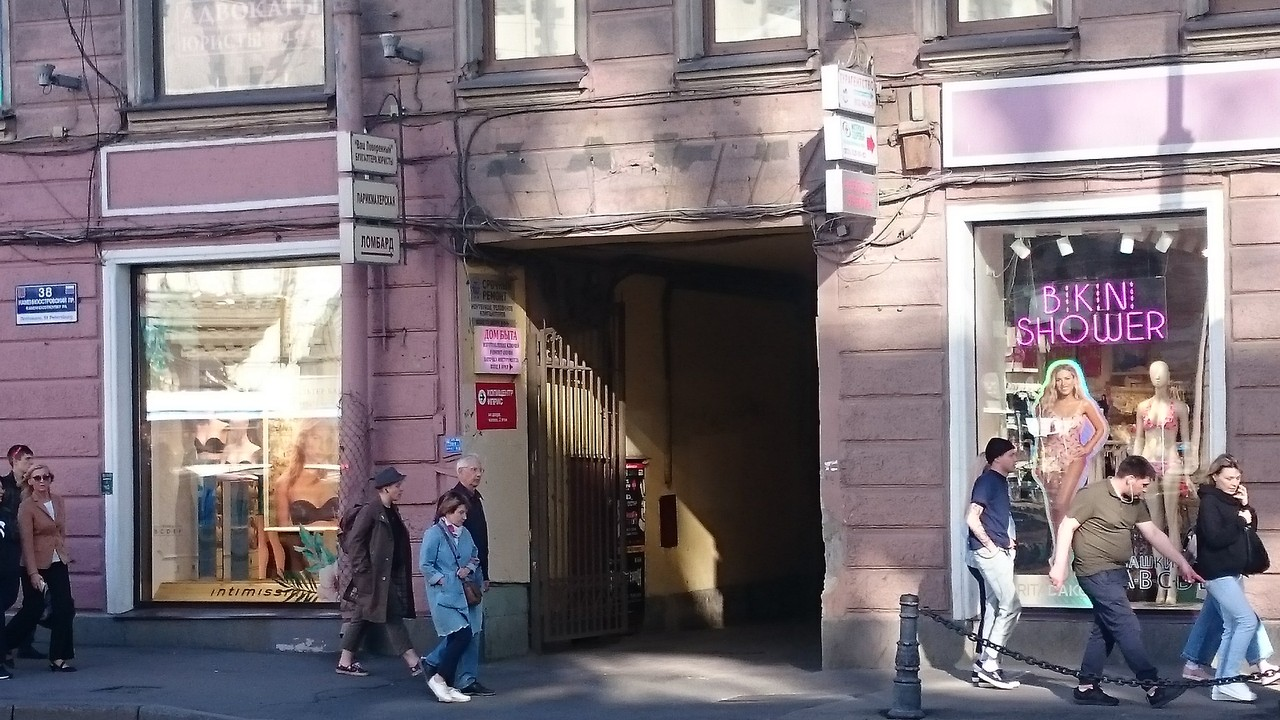arch: (452, 230, 832, 674)
cantilever: (335, 130, 410, 263), (823, 60, 886, 217)
window: (967, 216, 1214, 602), (115, 264, 346, 608)
